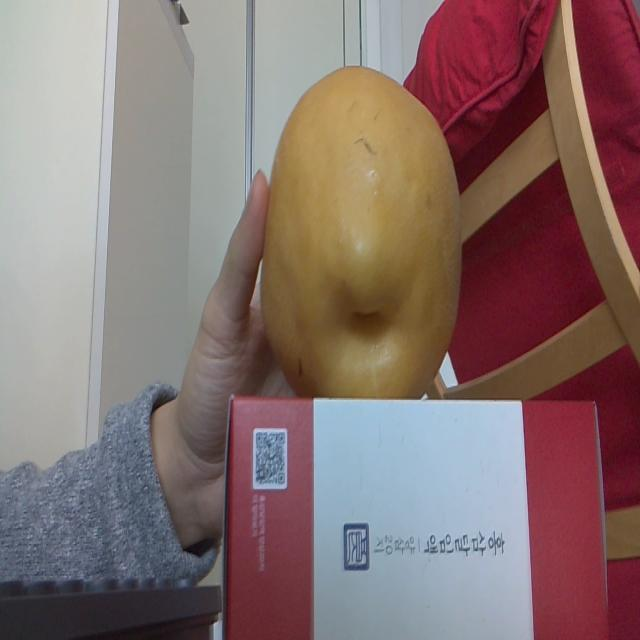pear: (254, 59, 469, 397)
